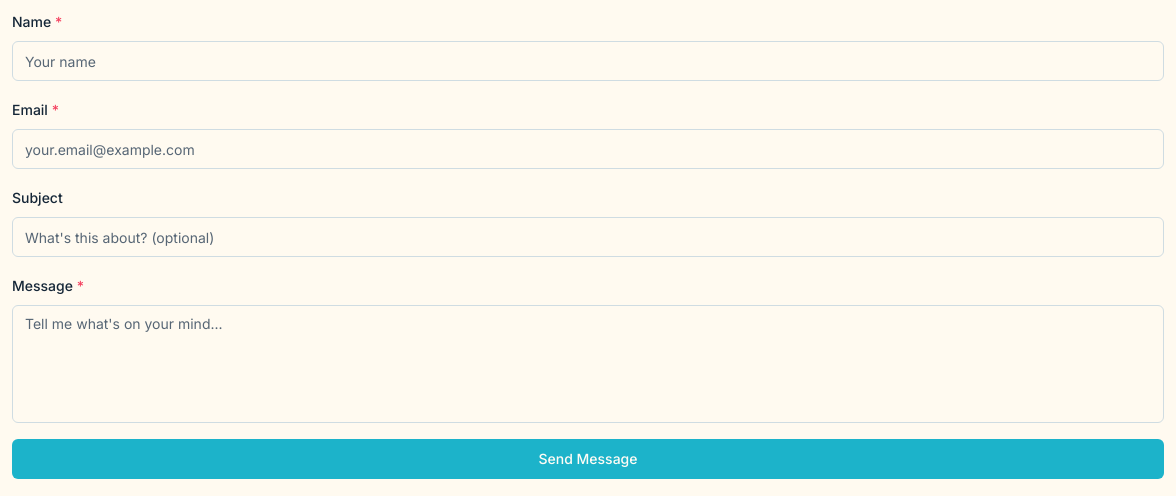
Test: ContactForm › Form Submission › shows loading state during submission
The width and height of the screenshot is (1176, 496).
Type "John" into the field labelled "Name *" at (588, 61), box [12,41,1164,81]
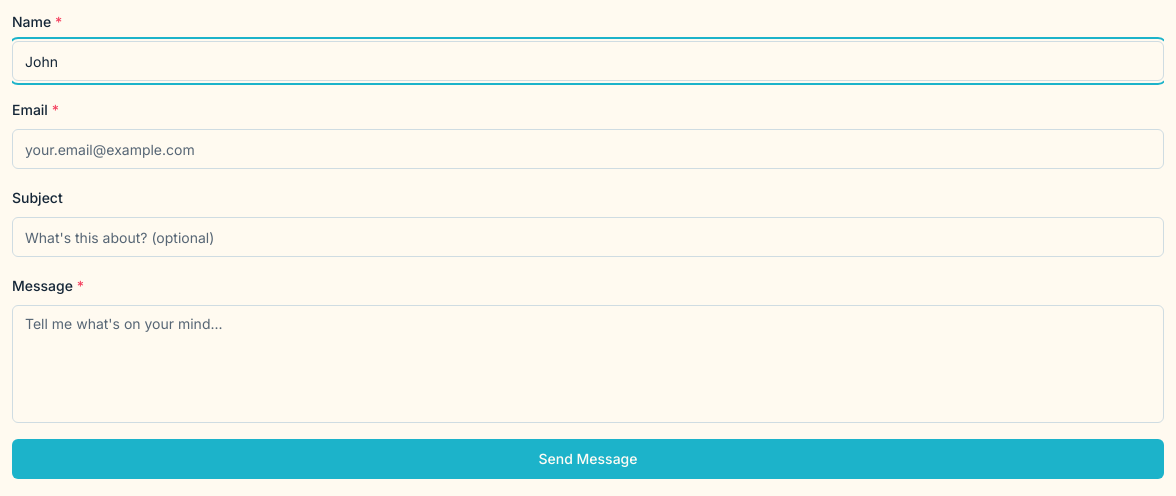
Type "john@example.com" into the field labelled "Email *" at (588, 149), box [12,129,1164,169]
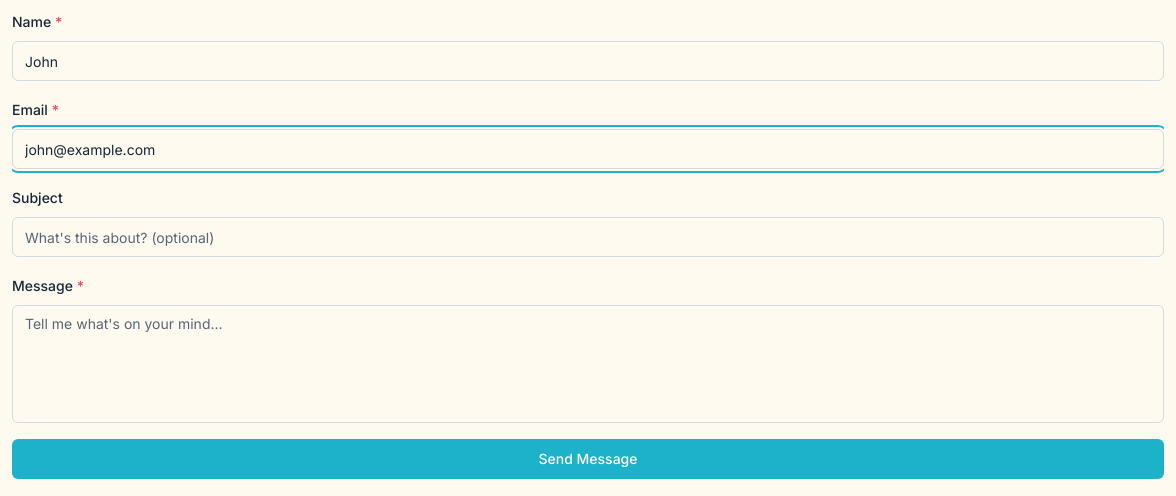
Type "Message" into the text box labelled "Message *" at (588, 364), box [12,305,1164,423]
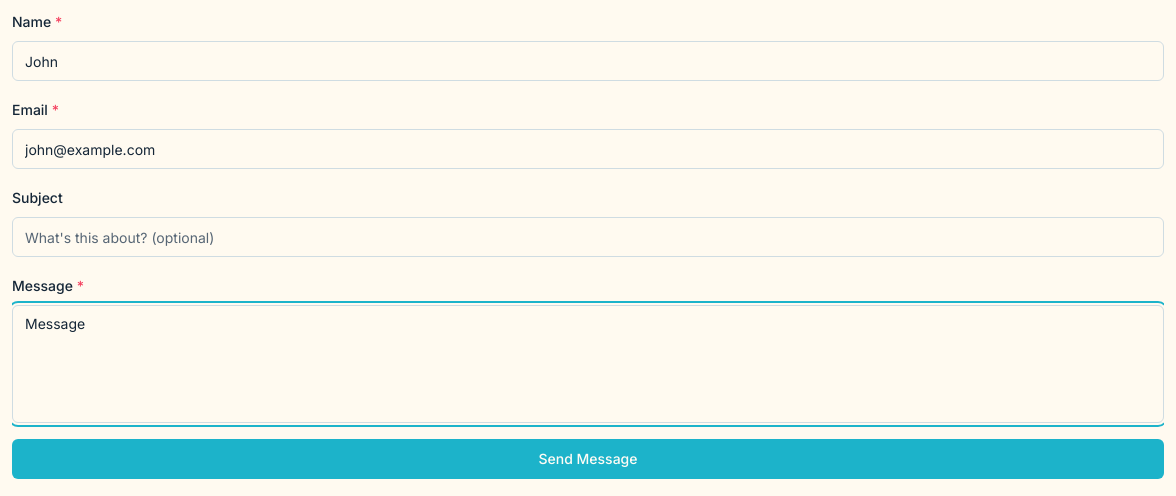
Click the button "Send Message" at (588, 459), box [12,439,1164,479]
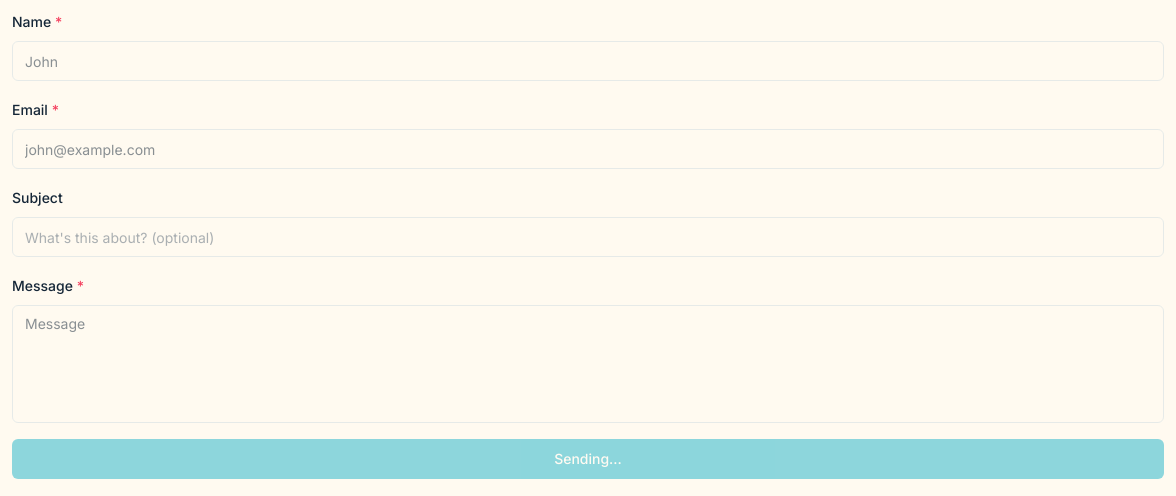
Now the button "Sending..." is disabled, box [12,439,1164,479]
